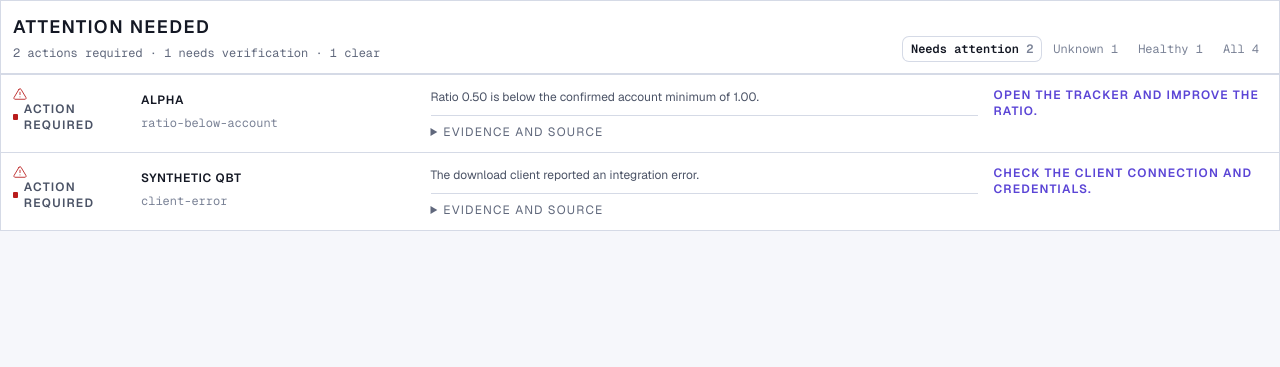
Test: AttentionNeeded › separates confirmed actions from verification items and clear accounts
Check: the text with test id "attention-counts" shows "2 actions required", box [13,45,380,61]
Check: the text with test id "attention-counts" shows "1 needs verification", box [13,45,380,61]
Click the button "Unknown 1" at {"x": 1086, "y": 49}, box [1045,37,1126,61]
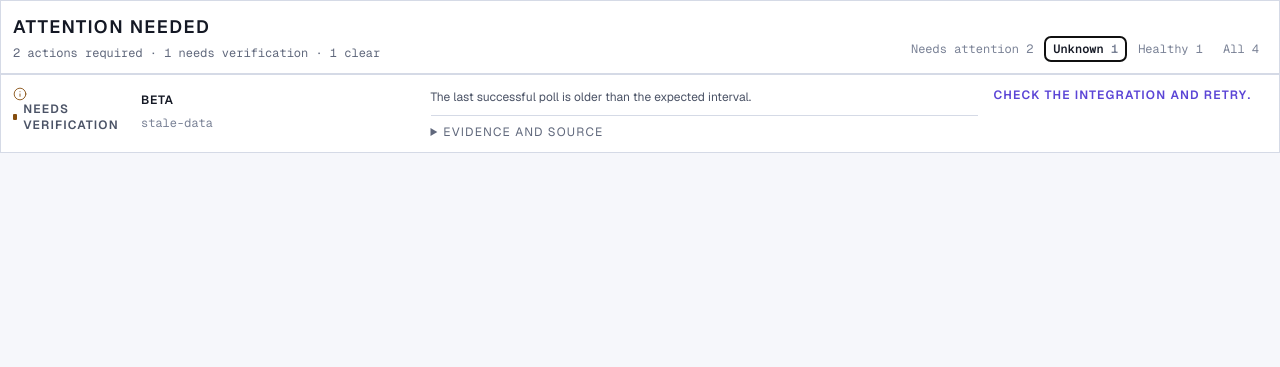
Check: the text "The last successful poll is older than the expected interval." is shown, box [430,89,751,105]
Check: the text "Ratio 0.50 is below the confirmed account minimum of 1.00." is gone
Click the button "Healthy 1" at {"x": 1171, "y": 49}, box [1130,37,1211,61]
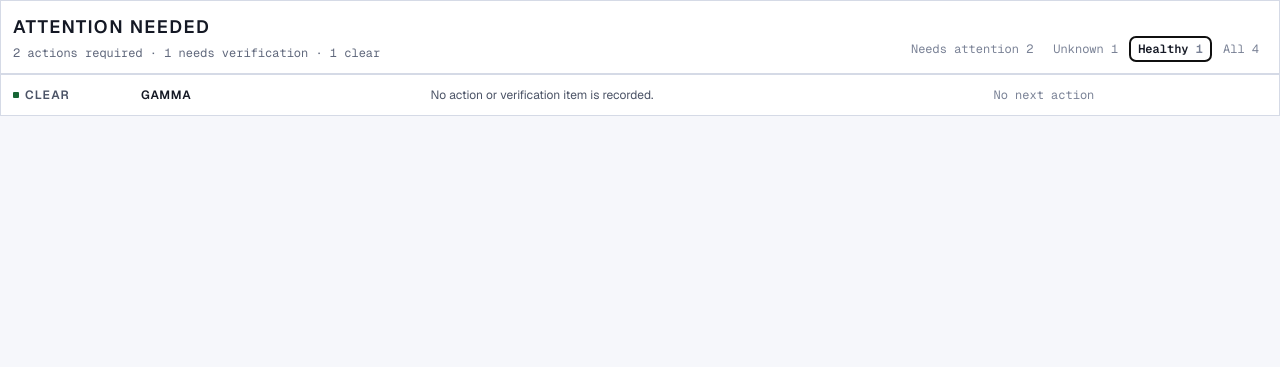
Check: the link "Gamma" is shown, box [141,87,191,103]
Check: the text "No action or verification item is recorded." is shown, box [430,87,654,103]
Click the button "All 4" at {"x": 1241, "y": 49}, box [1215,37,1267,61]
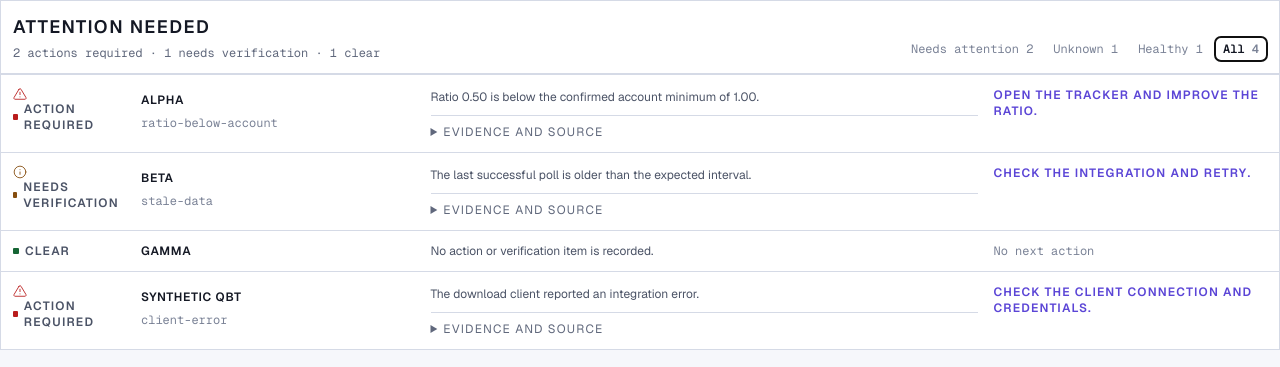
Check: the link "Gamma" is shown, box [141,243,191,259]
Check: the text "Ratio 0.50 is below the confirmed account minimum of 1.00." is shown, box [430,89,759,105]
Check: the text "The last successful poll is older than the expected interval." is shown, box [430,167,751,183]
